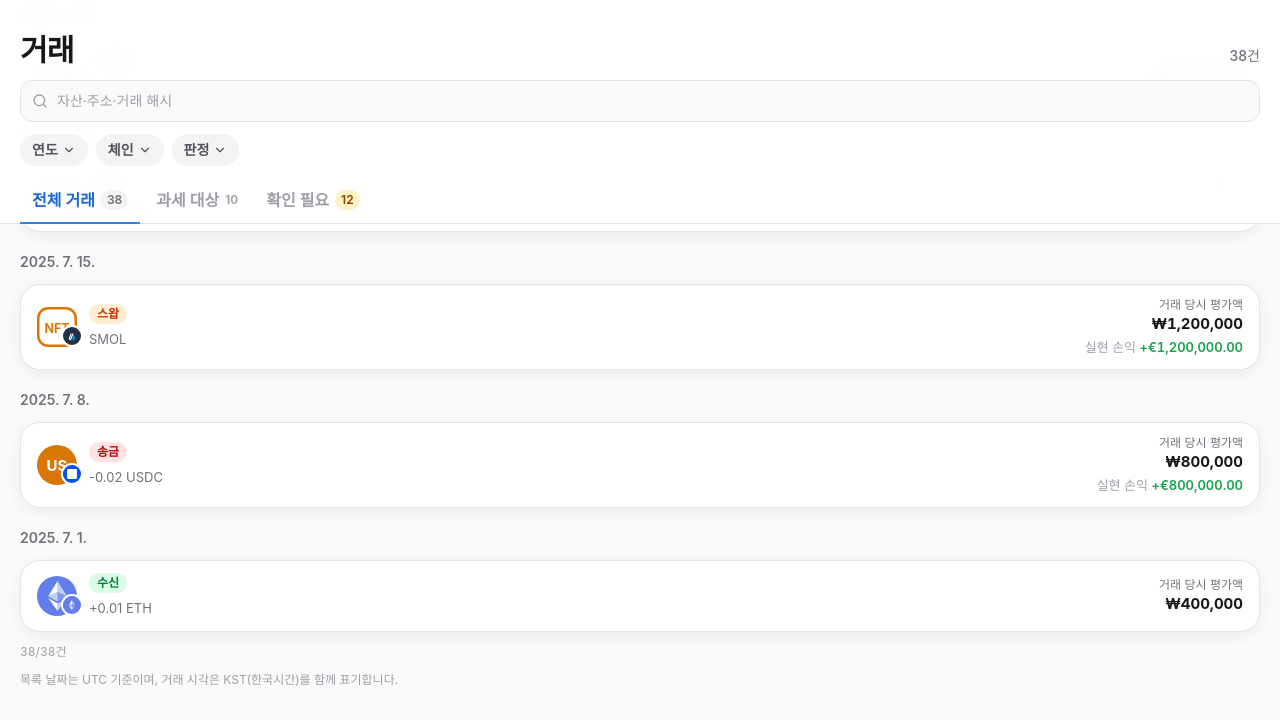
Test: 4차 리뷰 P1 경계 — 오래된 상태가 최신인 척하지 않는다 › 선택한 거래가 목록에서 사라지면 시트가 옛 데이터를 계속 보여주지 않는다
(page scrolled)
Click the text "+0.01 ETH".
click(120, 608)  # box [89,600,152,616]
(page scrolled)
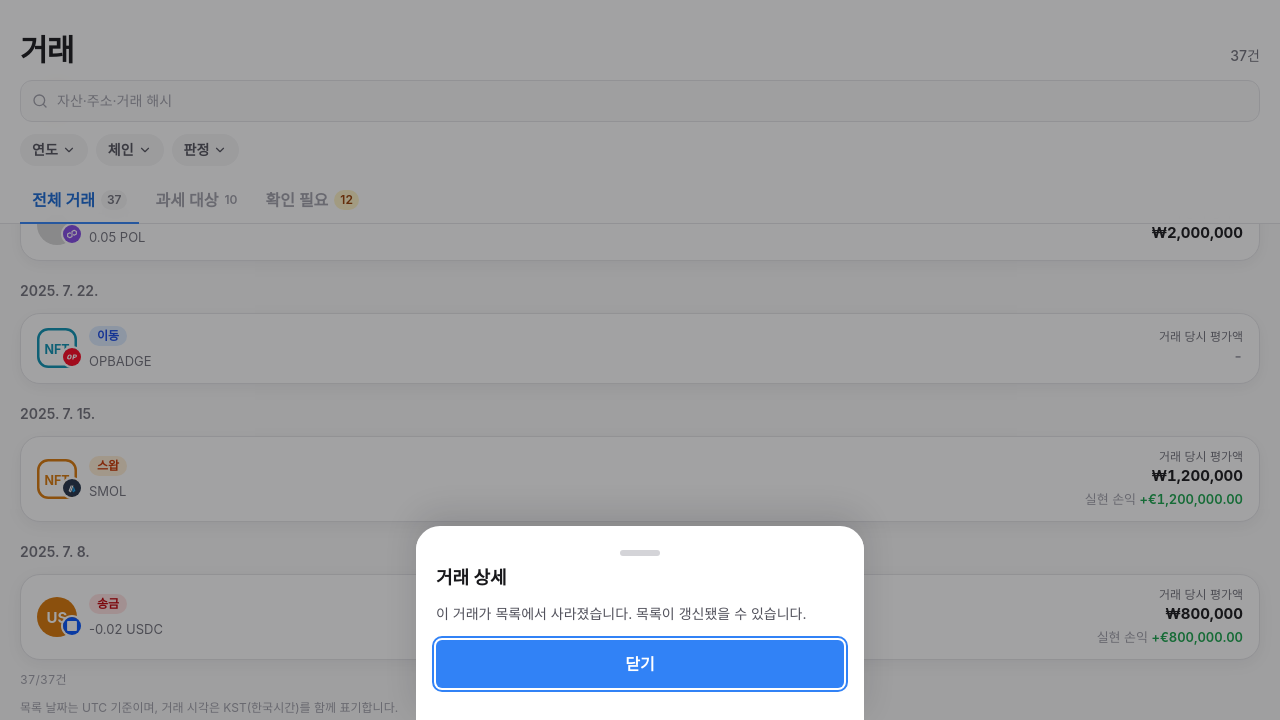
Result: the heading "거래 상세" is shown at [436,567,506,588]
Result: the text "이 거래가 목록에서 사라졌습니다. 목록이 갱신됐을 수 있습니다." is shown at [436,604,844,624]
